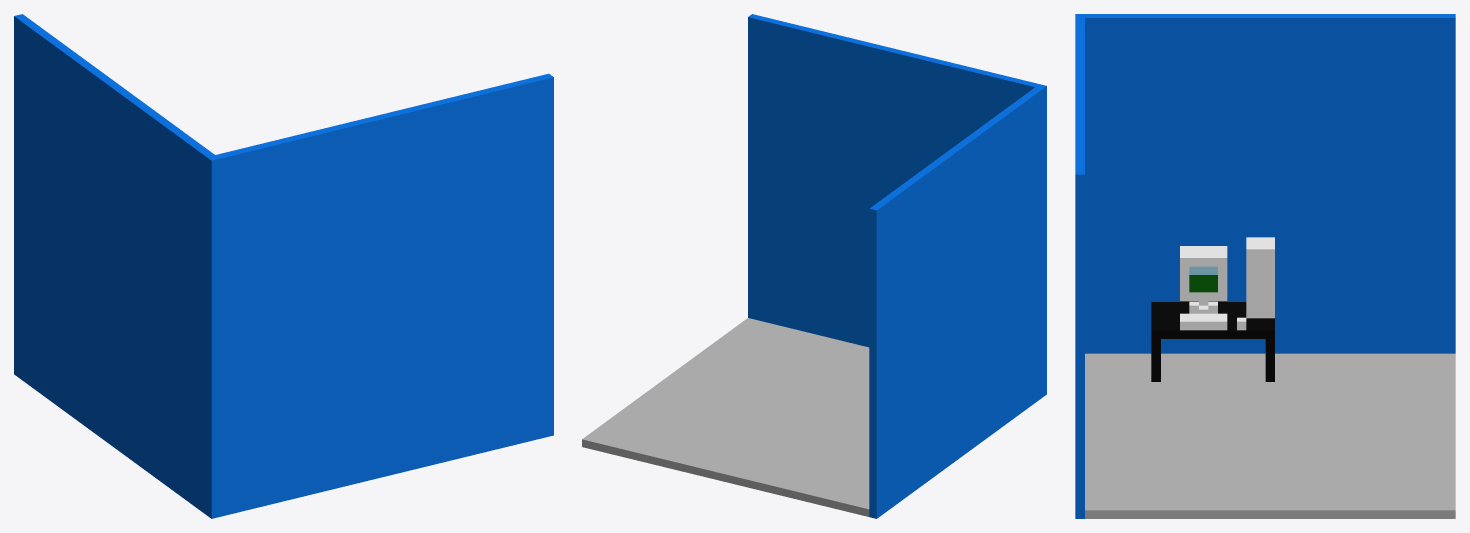
File: sala-pc.glb
3 views of the same model, side by side, from view 1: azimuth 30°, elevation 25°; view 2: azimuth 150°, elevation 25°; view 3: azimuth 270°, elevation 25° (orthographic). The views are drawn at different scales.
Bounding box in the file's own units: 4 × 4 × 4.
1 material, 1 textured.
